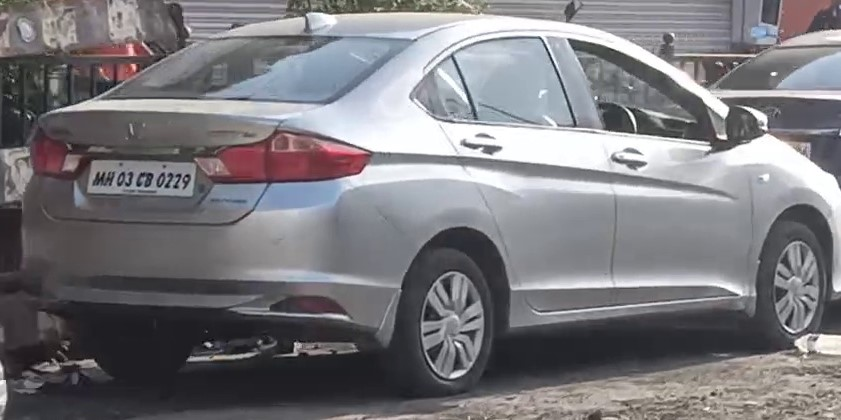MH03CB0229: (87, 157, 197, 198)
